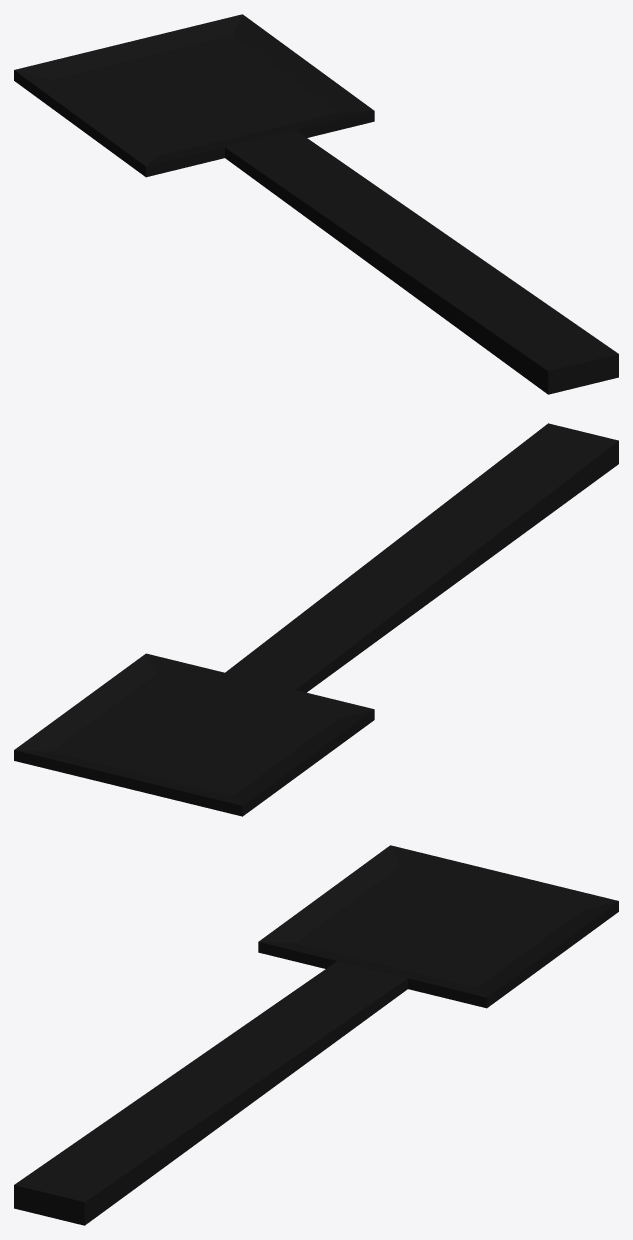
The model's file is Itr_Obj_Spoon_05.FBX.
The picture shows the model from 3 angles, top to bottom: view 1: azimuth 30°, elevation 25°; view 2: azimuth 150°, elevation 25°; view 3: azimuth 330°, elevation 25°; orthographic projection.
Visible parts, largest first — view 1: Itr_Obj_Spoon_05; view 2: Itr_Obj_Spoon_05; view 3: Itr_Obj_Spoon_05.
Part boxes in pixels (x1=…): Itr_Obj_Spoon_05: x1=14, y1=14, x2=618, y2=394; Itr_Obj_Spoon_05: x1=14, y1=423, x2=618, y2=816; Itr_Obj_Spoon_05: x1=14, y1=845, x2=618, y2=1225.
Bounding box in the file's own units: 1.41 × 0.1387 × 4.87.
